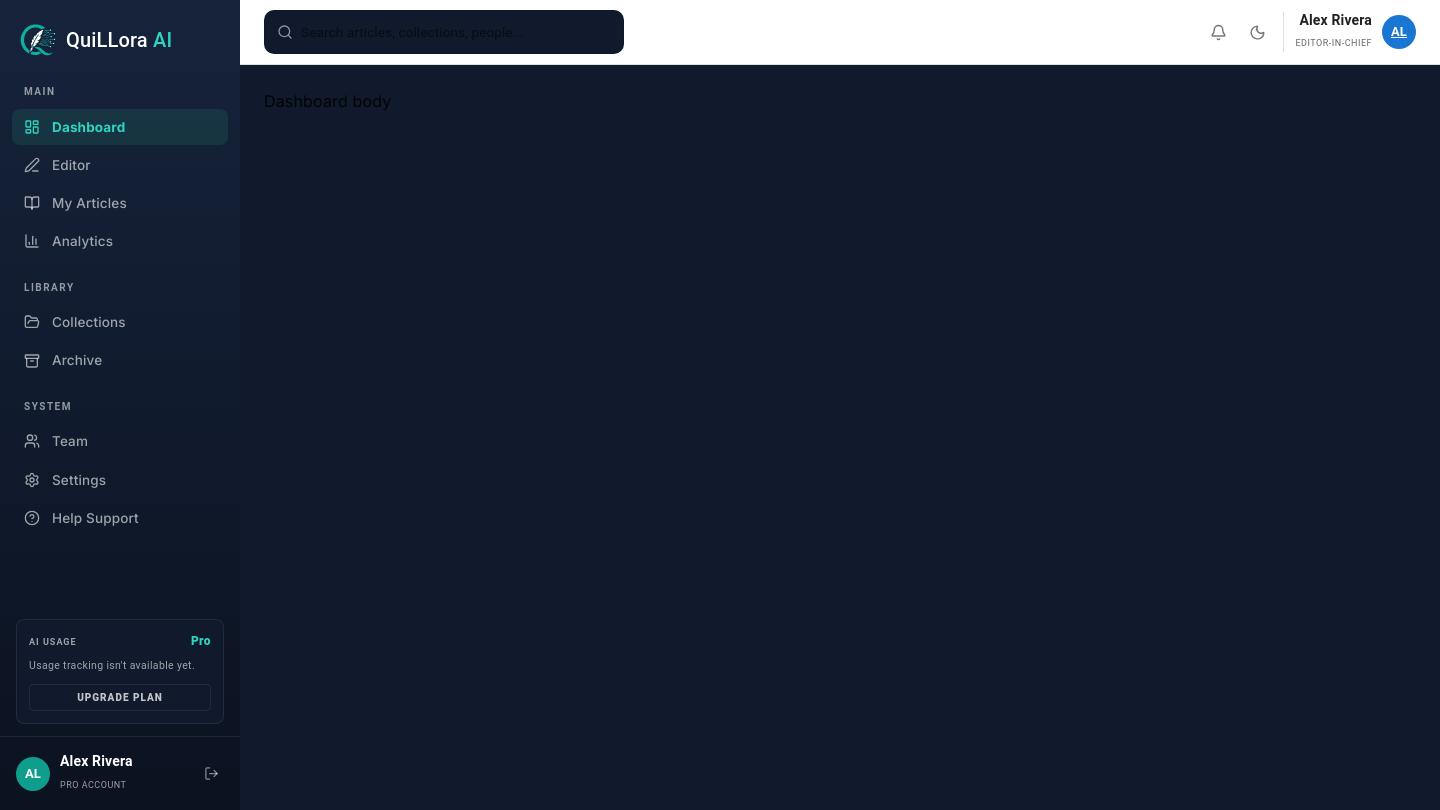
Test: notifications › presents no invented notification events
The width and height of the screenshot is (1440, 810).
Click the button named "notifications".
click(1218, 32)  # box [1204,18,1232,46]
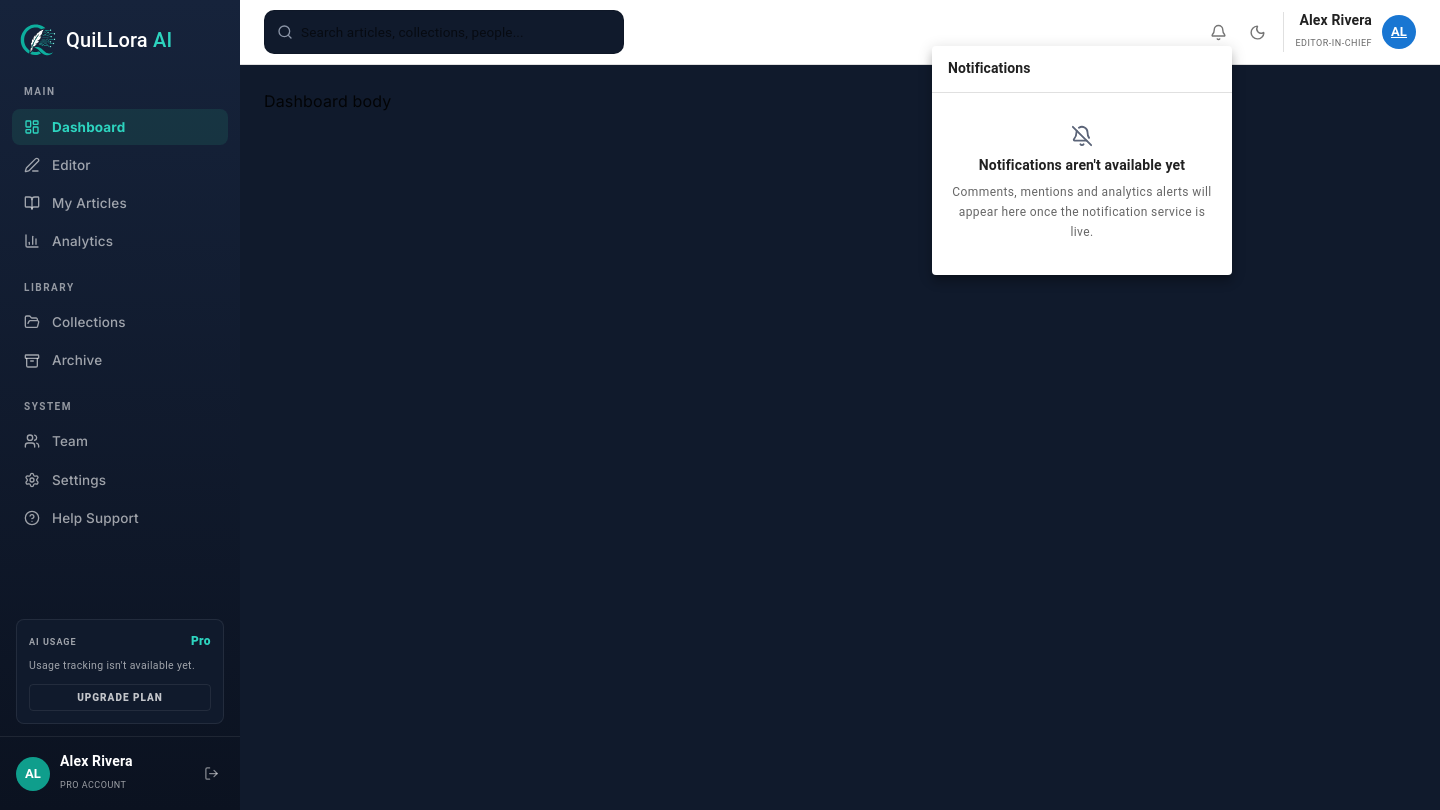
Now the text "Notifications aren't available yet" is shown, box [979,155,1185,175]
